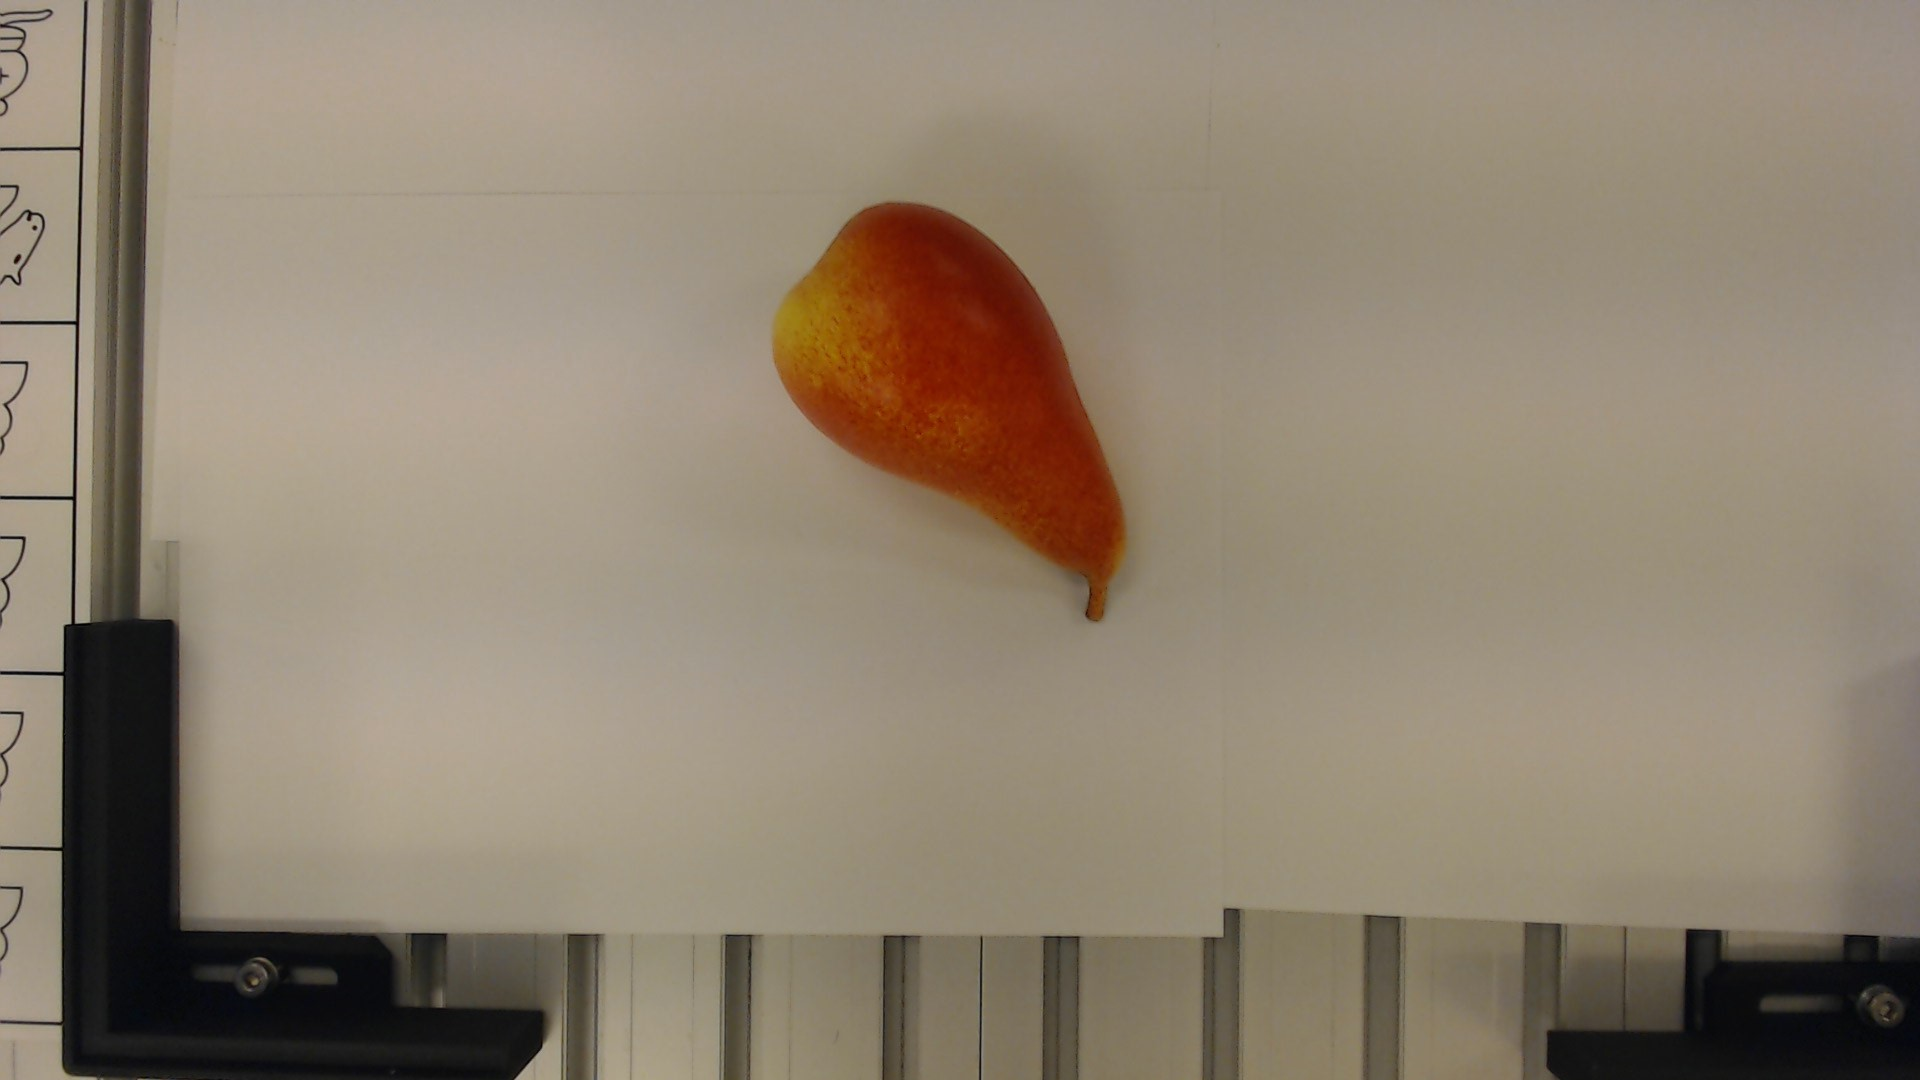Pear: (764, 200, 1130, 621)
